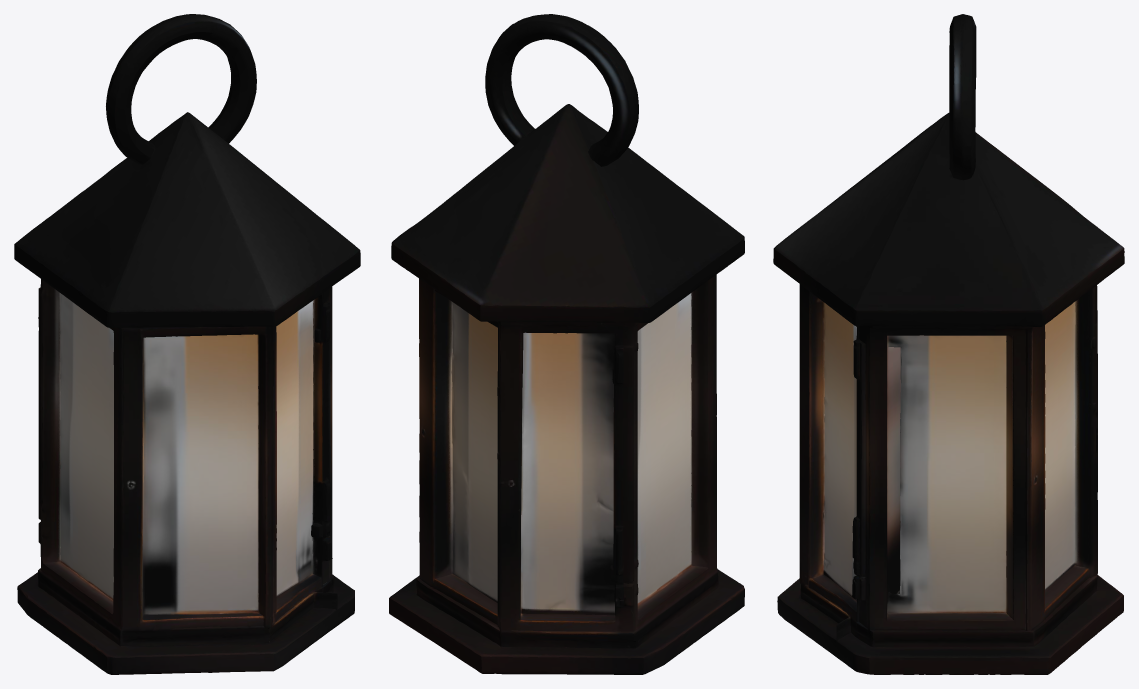
3 renders of one model, left to right at view 1: azimuth 30°, elevation 25°; view 2: azimuth 150°, elevation 25°; view 3: azimuth 270°, elevation 25°, orthographic.
Parts seen in each view (by area): view 1: world; view 2: world; view 3: world.
Part boxes in pixels (x1=…): world: x1=14, y1=14, x2=360, y2=674; world: x1=389, y1=14, x2=744, y2=674; world: x1=773, y1=14, x2=1124, y2=674.
Size of the model in its own units: 0.4547 by 1 by 0.5373.
1 material, 1 textured.
